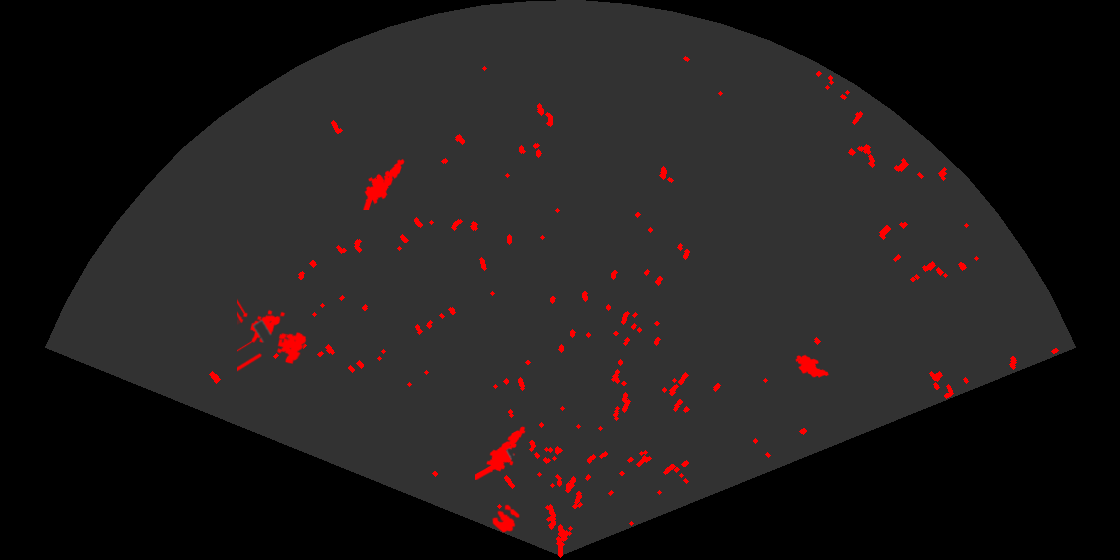AUV: (794, 353, 831, 379)
ball: (490, 503, 521, 534)
cage: (237, 297, 308, 373)
frogman: (475, 425, 527, 480), (361, 157, 406, 210)
